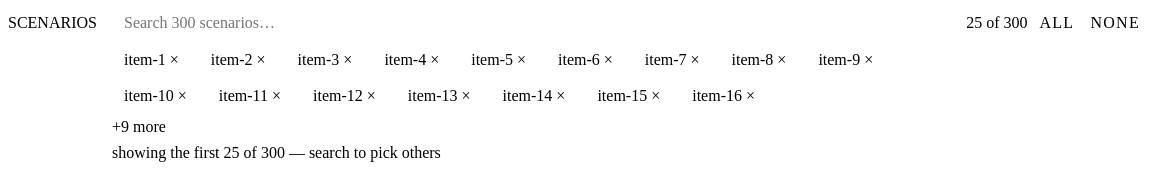
Test: FieldPicker — large field › drops the cap warning while a search is showing results
Type "item-9" into the search field.
click(242, 23); type("item-9")  # box [112,8,372,38]
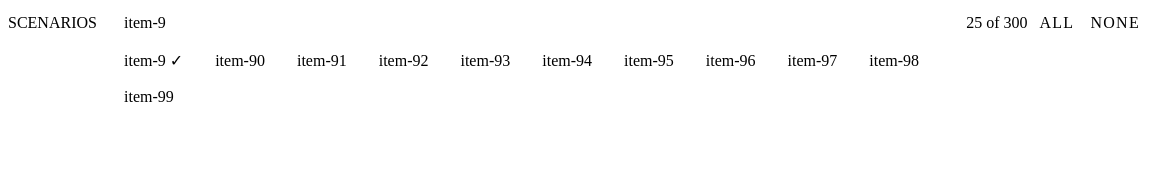
Expected: the text "showing the first" is gone
